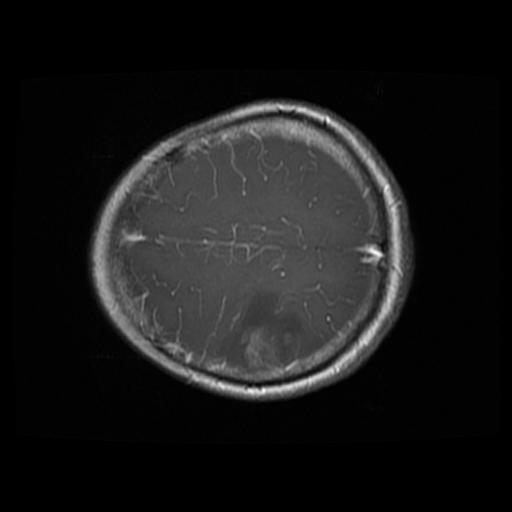glioma: (216, 291, 298, 375)
